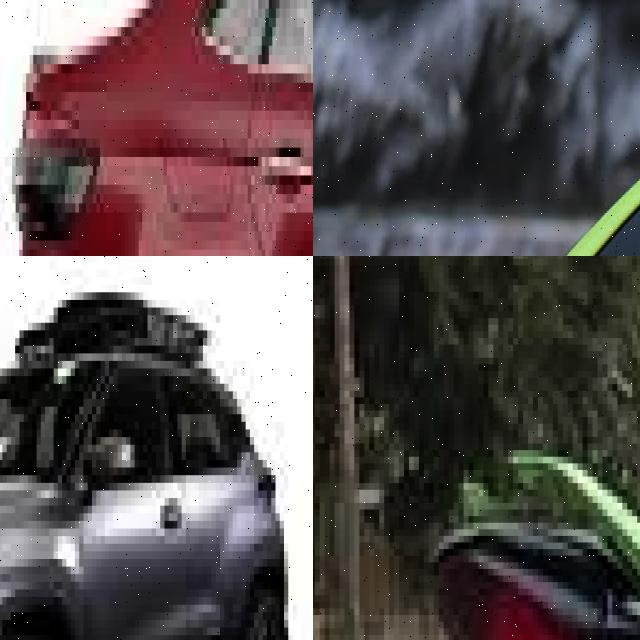bike: (369, 344, 640, 640)
car: (0, 330, 288, 640), (0, 0, 313, 256), (331, 33, 640, 256)
